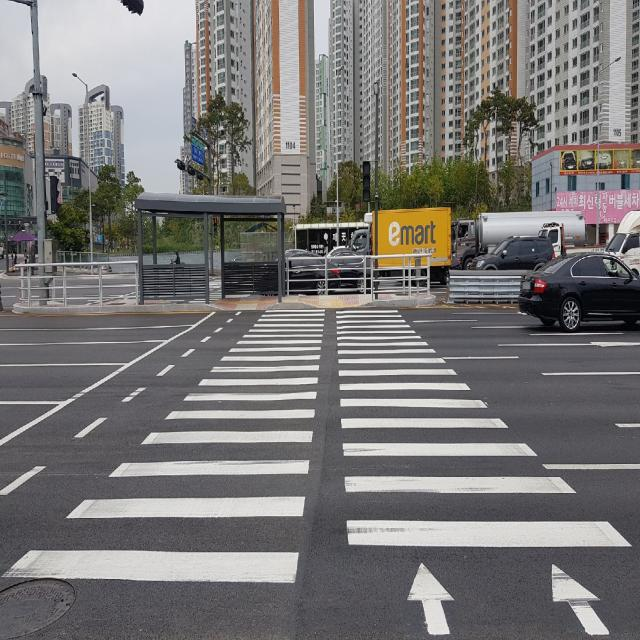횡단보도: (2, 308, 634, 640)
